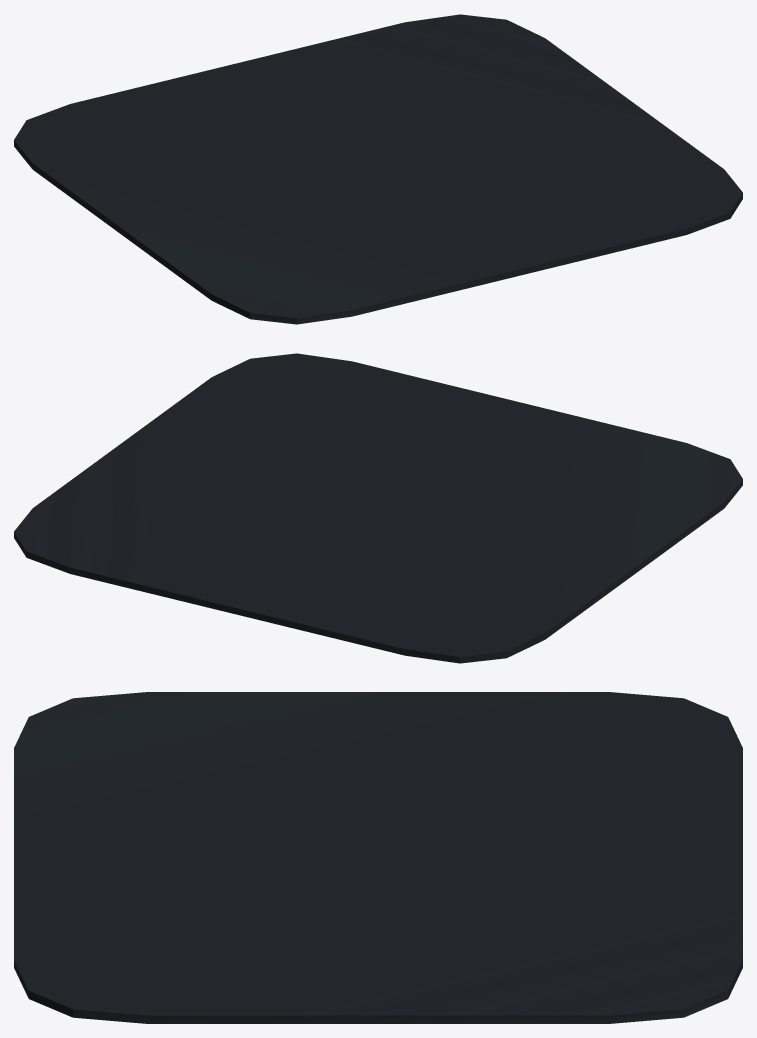
File: Mousepad.FBX
3 views of the same model, one above another, from view 1: azimuth 30°, elevation 25°; view 2: azimuth 150°, elevation 25°; view 3: azimuth 270°, elevation 25° (orthographic). The views are drawn at different scales.
Visible parts, largest first — view 1: Mousepad; view 2: Mousepad; view 3: Mousepad.
Boxes of the visible parts, x1,y1,x2,y2 form: Mousepad: (14,14,742,324); Mousepad: (14,353,742,663); Mousepad: (14,692,742,1023).
Size of the model in its own units: 5.01 by 0.06 by 4.77.
